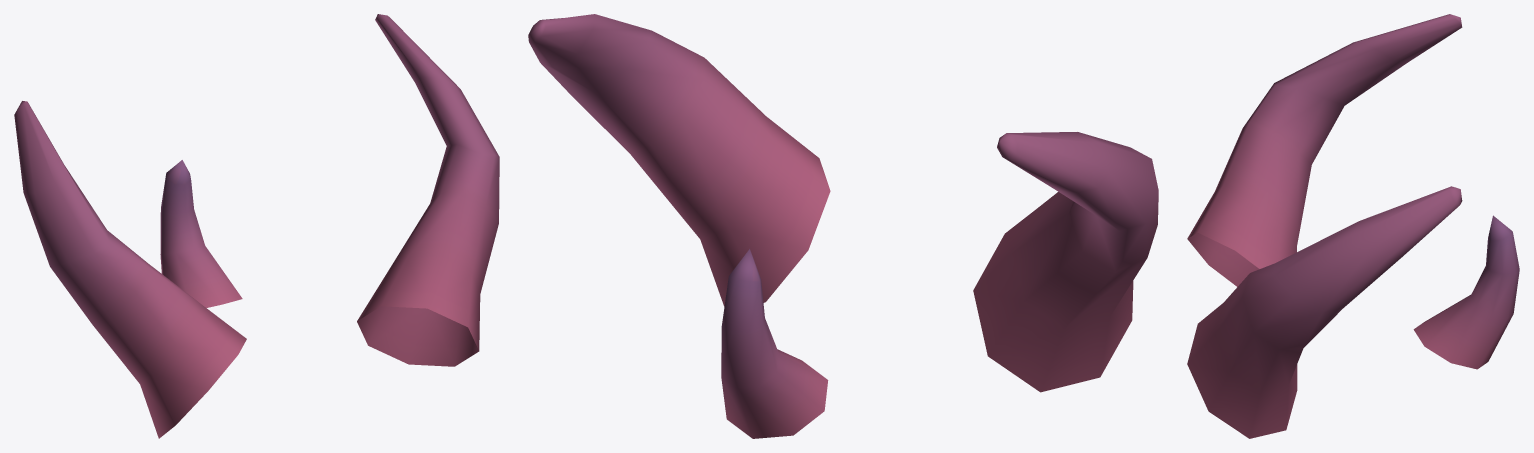
The model's file is SM_Horns_6.fbx.
3 renders of one model, left to right at view 1: azimuth 30°, elevation 25°; view 2: azimuth 150°, elevation 25°; view 3: azimuth 270°, elevation 25°, orthographic. The views are drawn at different scales.
Visible parts, largest first — view 1: SM_Horns_6; view 2: SM_Horns_6; view 3: SM_Horns_6.
Part boxes in pixels (left/top/right/bottom): SM_Horns_6: left=14, top=14, right=499, bottom=438; SM_Horns_6: left=528, top=14, right=1158, bottom=438; SM_Horns_6: left=1187, top=14, right=1519, bottom=438.
Size of the model in its own units: 1.21 by 0.802 by 0.7226.
